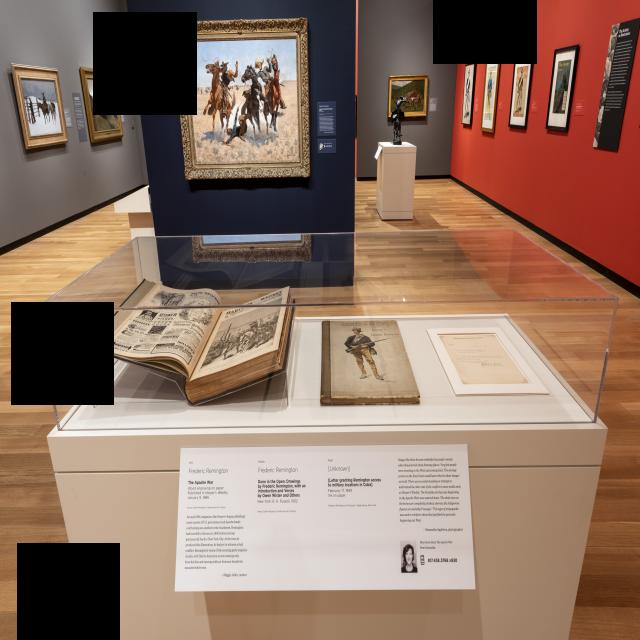Tablo: (185, 38, 299, 163), (20, 78, 62, 136), (547, 51, 575, 127), (87, 78, 119, 133), (510, 58, 531, 126), (390, 79, 425, 113), (482, 57, 498, 129), (462, 64, 474, 125)
